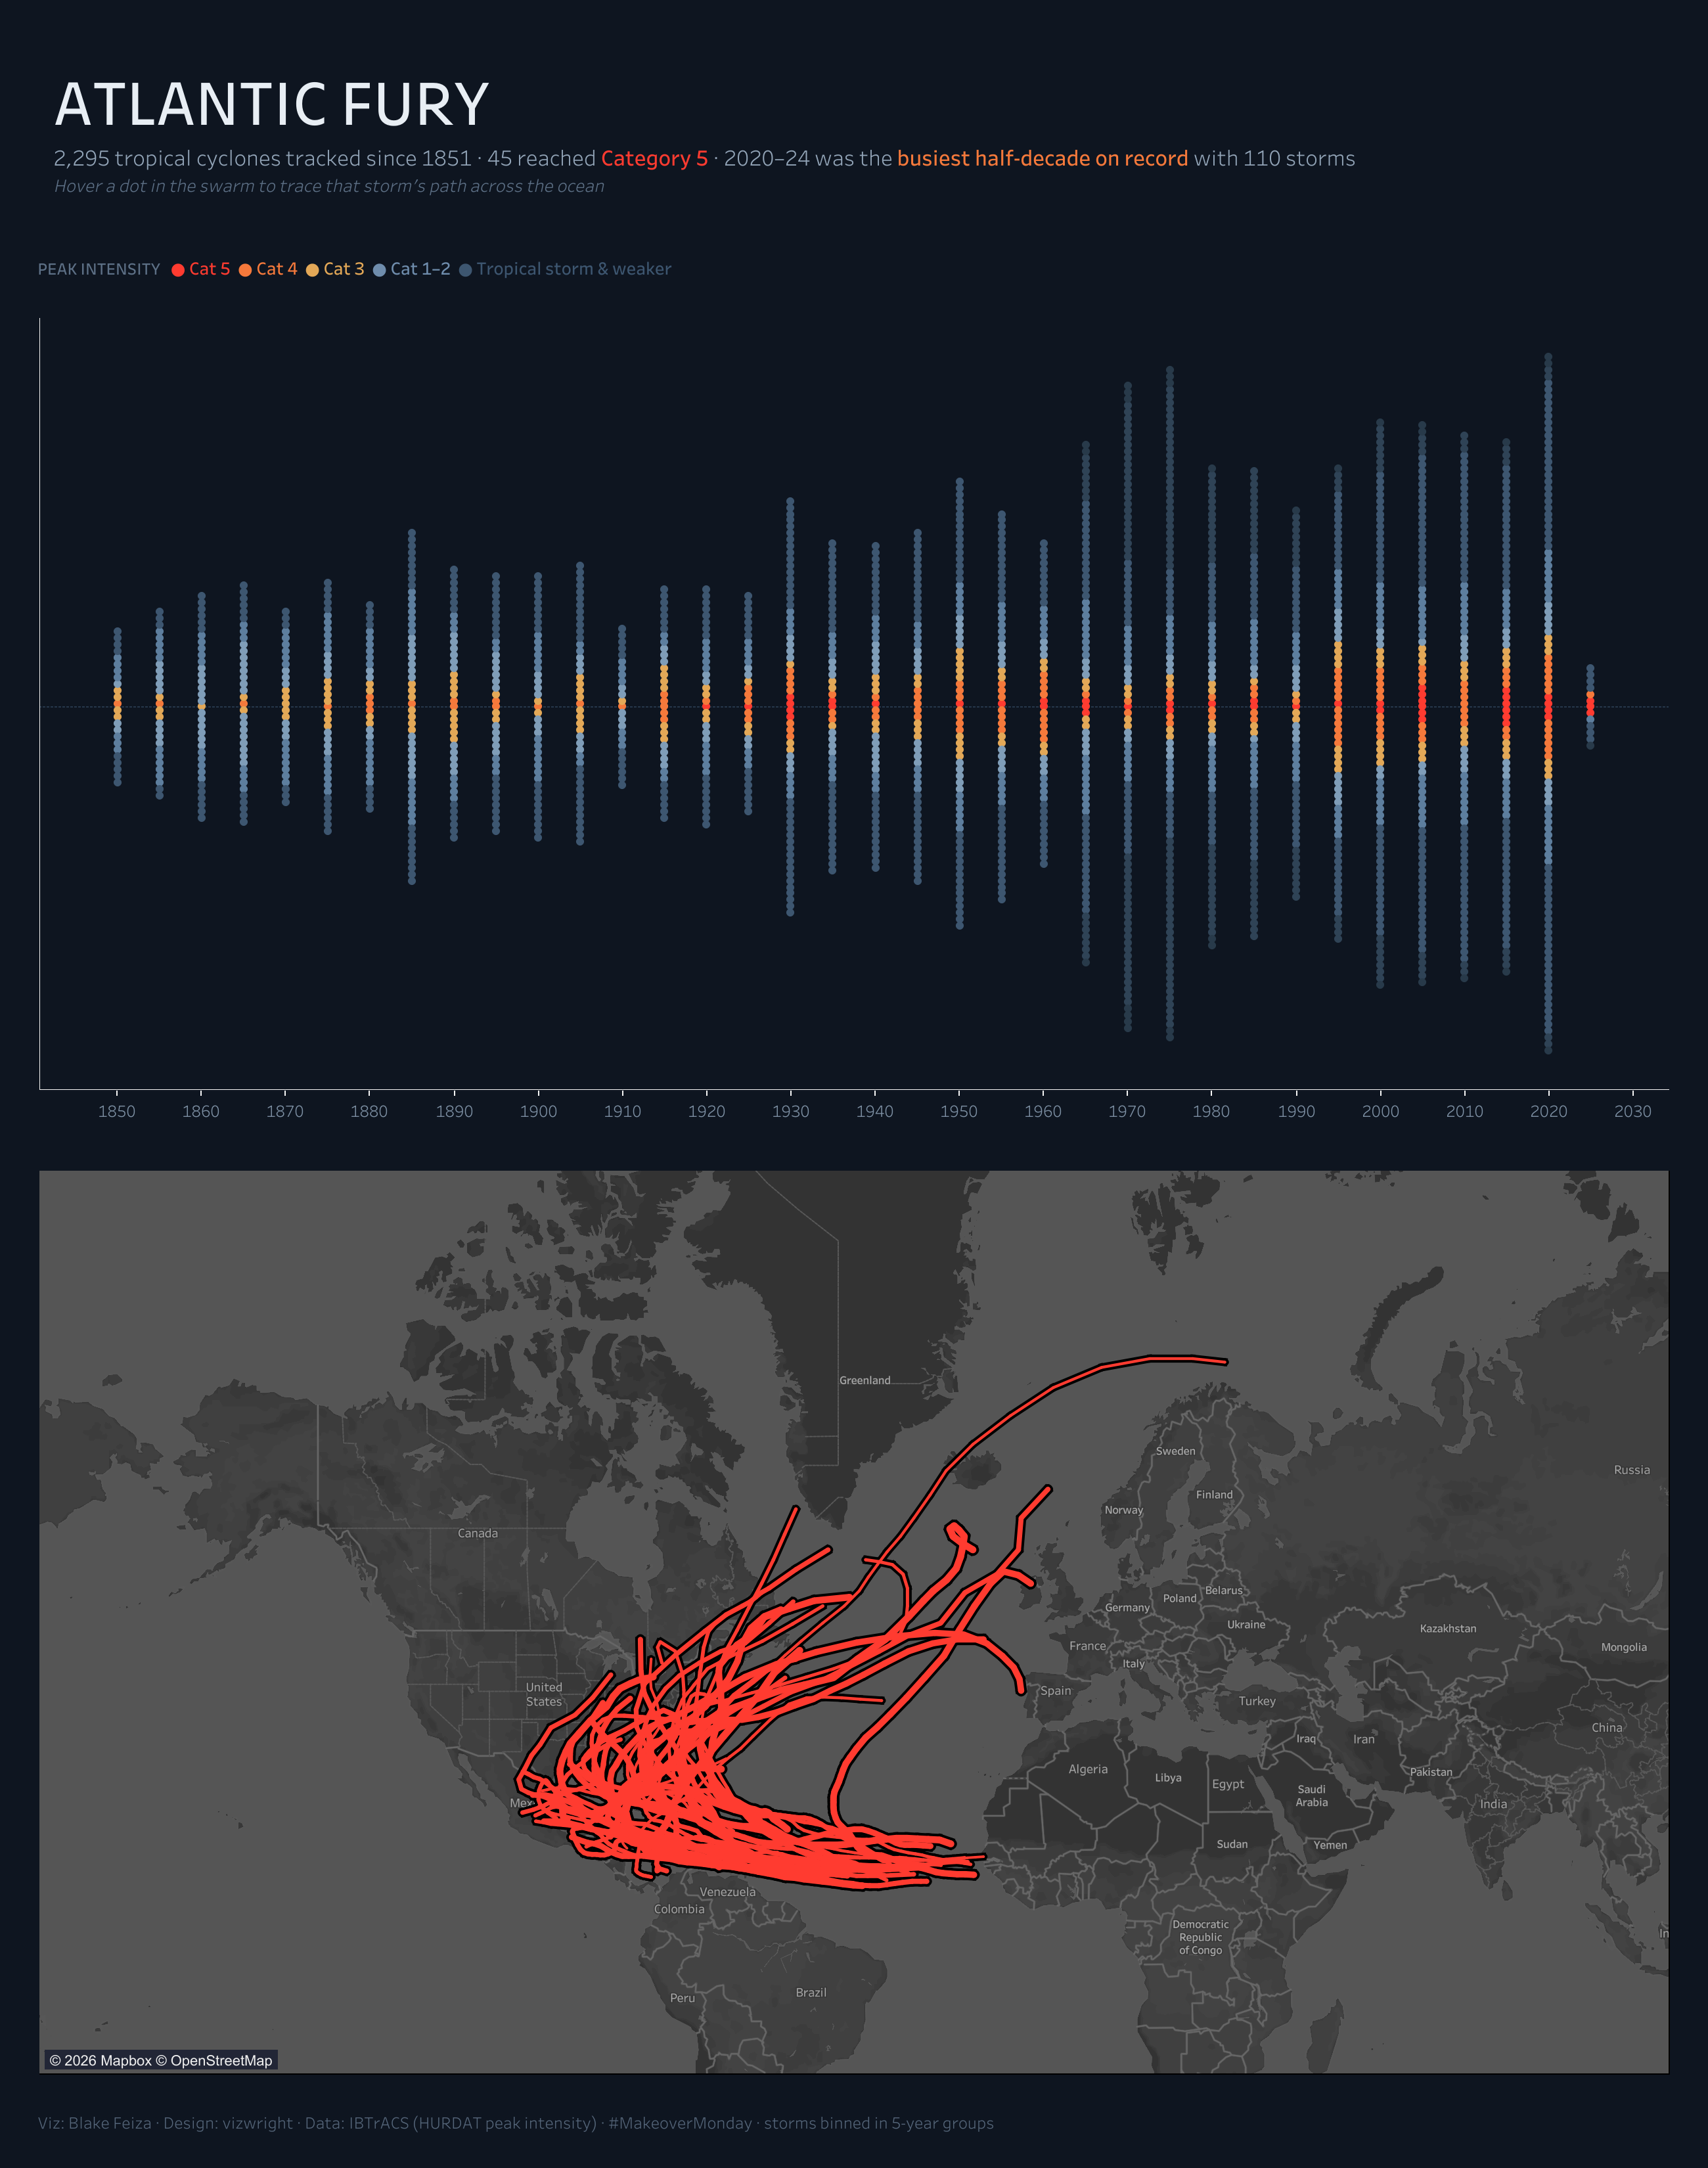

Layout of this report page (visuals, bound fields, positions):
{"tool":"tableau","page":{"name":"FeizaData","canvas":[1400,850],"ordinal":0},"visuals":[{"type":"text","box":[20,20,1360,150]},{"type":"worksheet","title":"Map","mark":"Automatic","rows":["LAT"],"cols":["LON"],"box":[1148,21,226,147]},{"type":"worksheet","title":"Beeswarm Atlantic","mark":"Circle","cols":["Year (bin)"],"box":[20,170,1360,625]},{"type":"parameter","param":"[Parameters].[Parameter 1]","box":[27,174,160,44]},{"type":"text","box":[20,795,1360,35]}]}

Visuals, with their boxes on the page's 1400x850 design canvas (x1, y1, x2, y2). These are canvas units, not pixel positions in the 1708x2168 screenshot, which may show the page scaled, cropped or inside an application window:
text: (20, 20, 1380, 170)
"Map" worksheet: (1148, 21, 1374, 168)
"Beeswarm Atlantic" worksheet (Circle marks): (20, 170, 1380, 795)
parameter: (27, 174, 187, 218)
text: (20, 795, 1380, 830)
